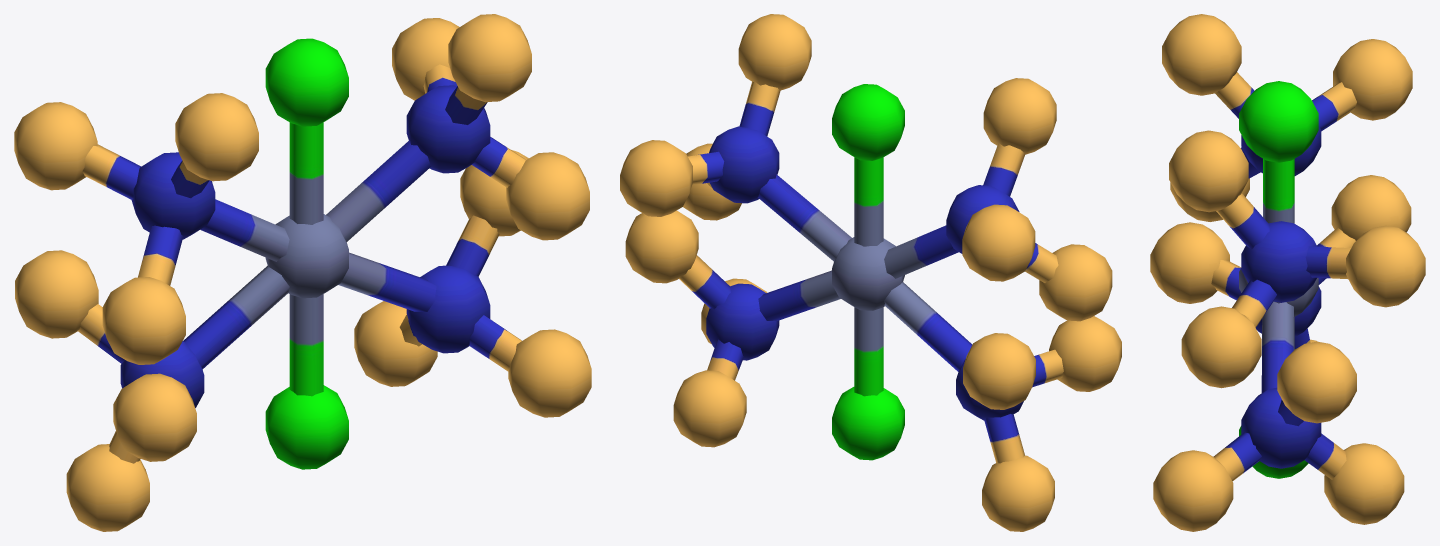
File: trans.dae
3 renders of one model, left to right at view 1: azimuth 30°, elevation 25°; view 2: azimuth 150°, elevation 25°; view 3: azimuth 270°, elevation 25°, orthographic. The views are drawn at different scales.
Visible parts, largest first — view 1: polySurface1; view 2: polySurface1; view 3: polySurface1.
Boxes of the visible parts, left/top/right/bottom form: polySurface1: left=14, top=14, right=591, bottom=531; polySurface1: left=620, top=14, right=1121, bottom=531; polySurface1: left=1150, top=14, right=1425, bottom=531.
Bounding box in the file's own units: 4.5 × 4.09 × 2.37.
Materials: 1 (1 with a texture image).
